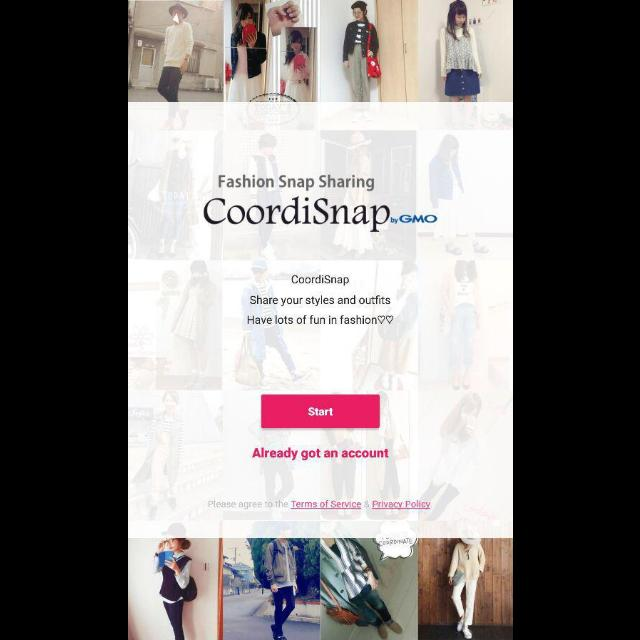backgroundimage: (128, 1, 512, 640)
image: (202, 196, 438, 234)
text: (246, 295, 394, 325), (218, 174, 374, 192), (208, 499, 430, 511), (251, 447, 389, 461), (291, 274, 349, 286)
textbutton: (260, 395, 380, 429)
